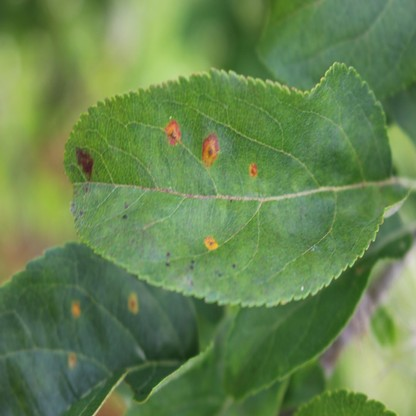rust: (202, 135, 219, 165), (166, 120, 182, 146), (127, 292, 138, 312), (204, 235, 217, 249), (67, 350, 76, 368), (71, 301, 80, 318), (249, 162, 257, 175)
